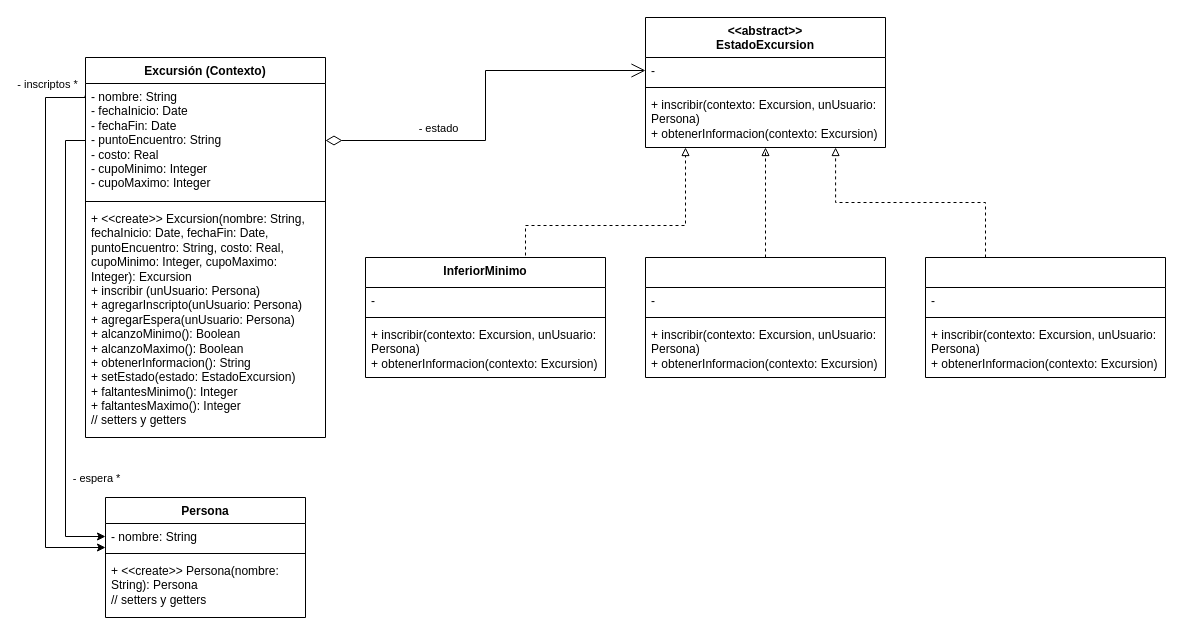
The diagram is 1184 pixels wide and 638 high, and some of its shapes have lost their labels. The box of each missing label's shape, as (x1, y1, x2, y2) in pixels:
Maximo: (924, 256, 1166, 378)
Minimo: (644, 256, 886, 378)
